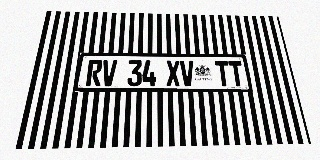3: (127, 60, 142, 86)
4: (142, 60, 156, 86)
R: (85, 60, 103, 86)
T: (228, 61, 245, 86), (215, 61, 231, 86)
V: (101, 60, 117, 86), (180, 60, 195, 86)
X: (166, 60, 180, 86)
